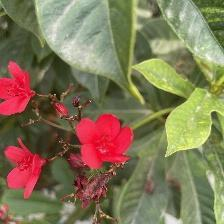jatropha: (73, 112, 137, 171)
